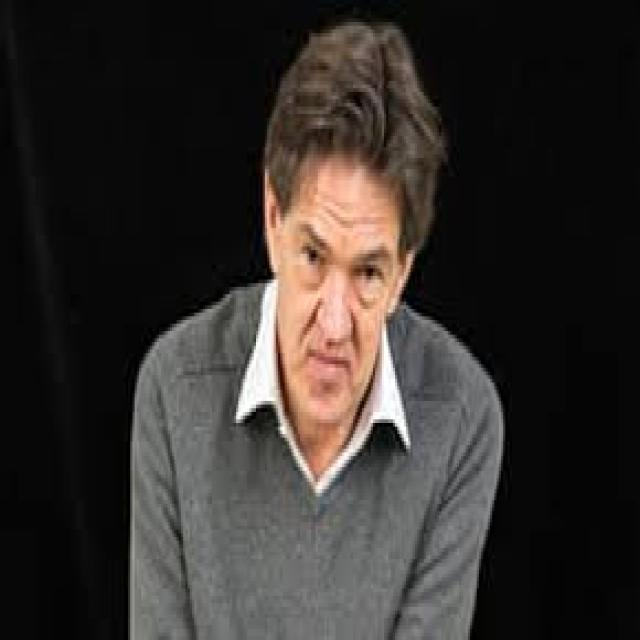normal_face: (267, 48, 419, 424)
